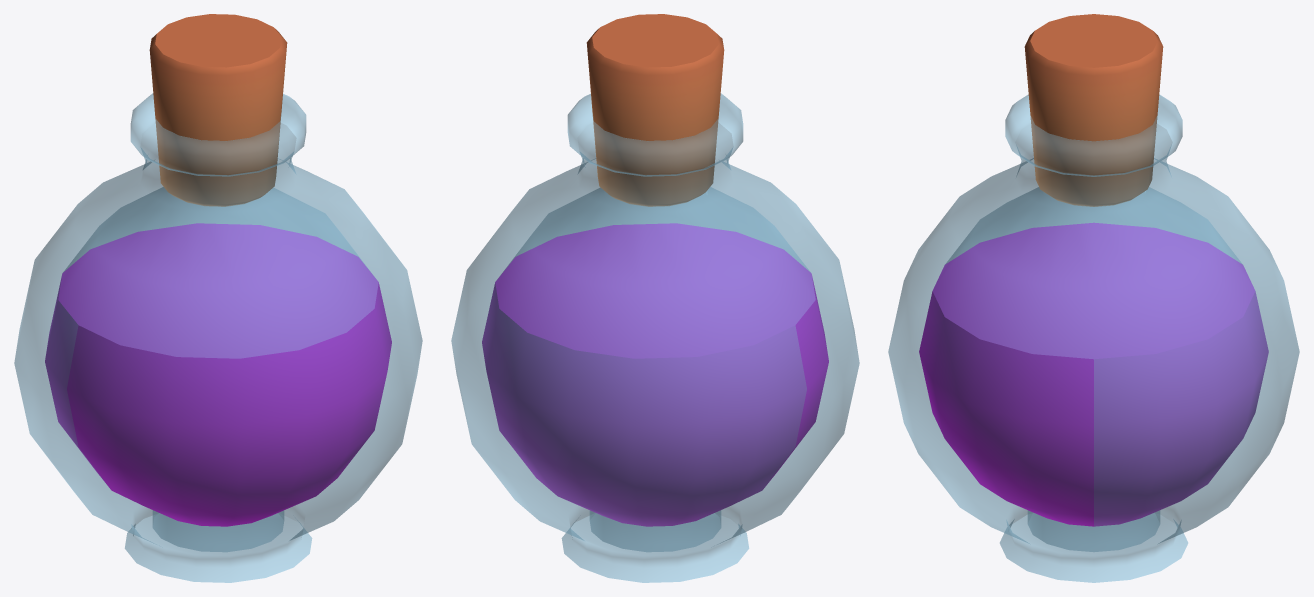
File: Potion_Box_V1_00.fbx
The picture shows the model from 3 angles, left to right: view 1: azimuth 30°, elevation 25°; view 2: azimuth 150°, elevation 25°; view 3: azimuth 270°, elevation 25°; orthographic projection.
Parts seen in each view (by area): view 1: Potion_Box_V1_00, Potion_V1_00, Potion_Box_Plug_V1_00; view 2: Potion_Box_V1_00, Potion_V1_00, Potion_Box_Plug_V1_00; view 3: Potion_Box_V1_00, Potion_V1_00, Potion_Box_Plug_V1_00.
Part boxes in pixels (bbox=[...]): Potion_Box_V1_00: bbox=[14, 93, 422, 582]; Potion_V1_00: bbox=[45, 223, 391, 526]; Potion_Box_Plug_V1_00: bbox=[149, 14, 287, 206]; Potion_Box_V1_00: bbox=[451, 93, 859, 582]; Potion_V1_00: bbox=[482, 223, 828, 526]; Potion_Box_Plug_V1_00: bbox=[586, 14, 724, 206]; Potion_Box_V1_00: bbox=[888, 94, 1299, 582]; Potion_V1_00: bbox=[919, 223, 1268, 526]; Potion_Box_Plug_V1_00: bbox=[1024, 14, 1163, 206].
Size of the model in its own units: 29.81 by 40.12 by 29.81.
